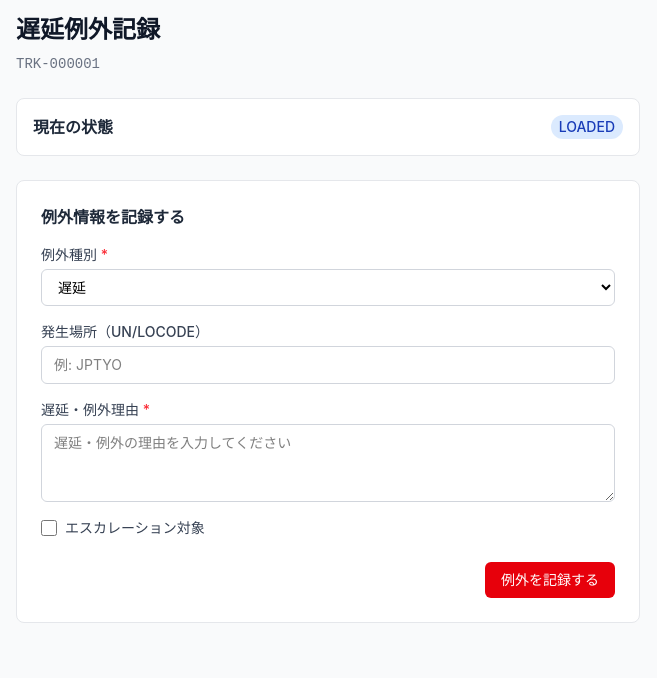
Test: TrackingExceptionPage › DAMAGE 選択時に破損詳細フィールドが表示される
Select "損傷" in the dropdown labelled "例外種別 *" at (328, 288), box x1=41 y1=269 x2=615 y2=306
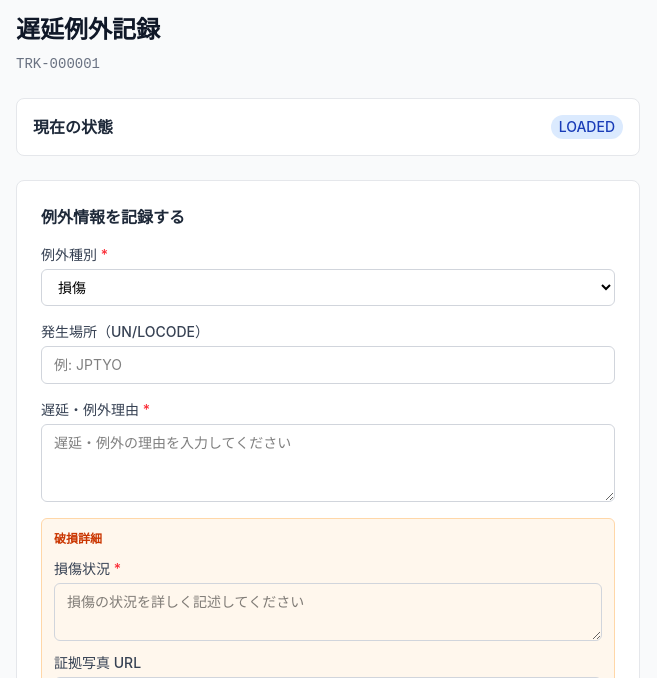
Expected: the text "破損詳細" is shown, x1=54 y1=531 x2=102 y2=546
Expected: the text box labelled "損傷状況 *" is shown, x1=54 y1=583 x2=602 y2=641
